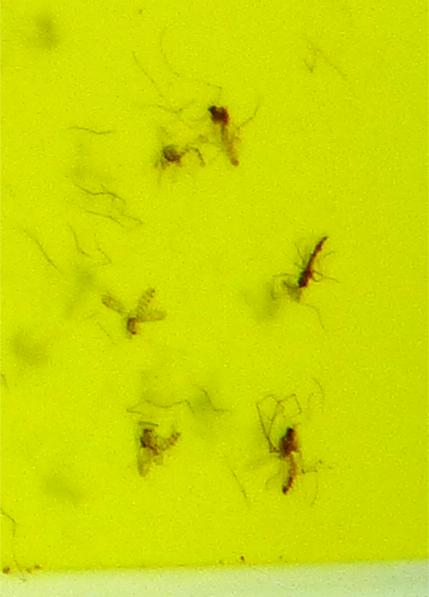Nematocera: (265, 233, 329, 314), (257, 411, 315, 497), (100, 287, 162, 339), (133, 418, 182, 477), (203, 100, 241, 168), (152, 141, 205, 172)
